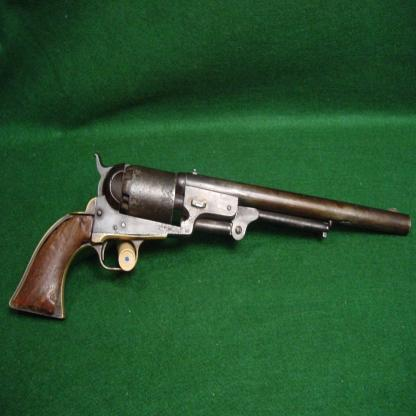gun: (12, 109, 412, 350)
